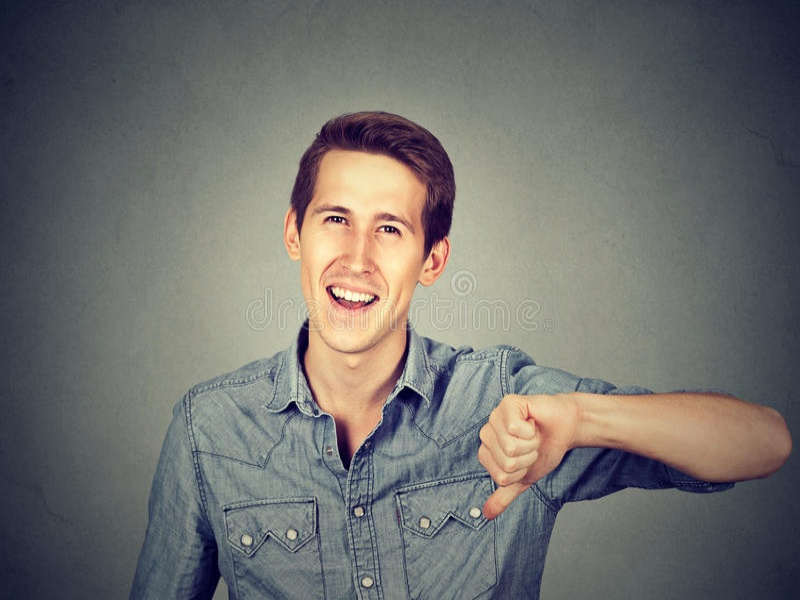smile: (312, 153, 421, 358)
